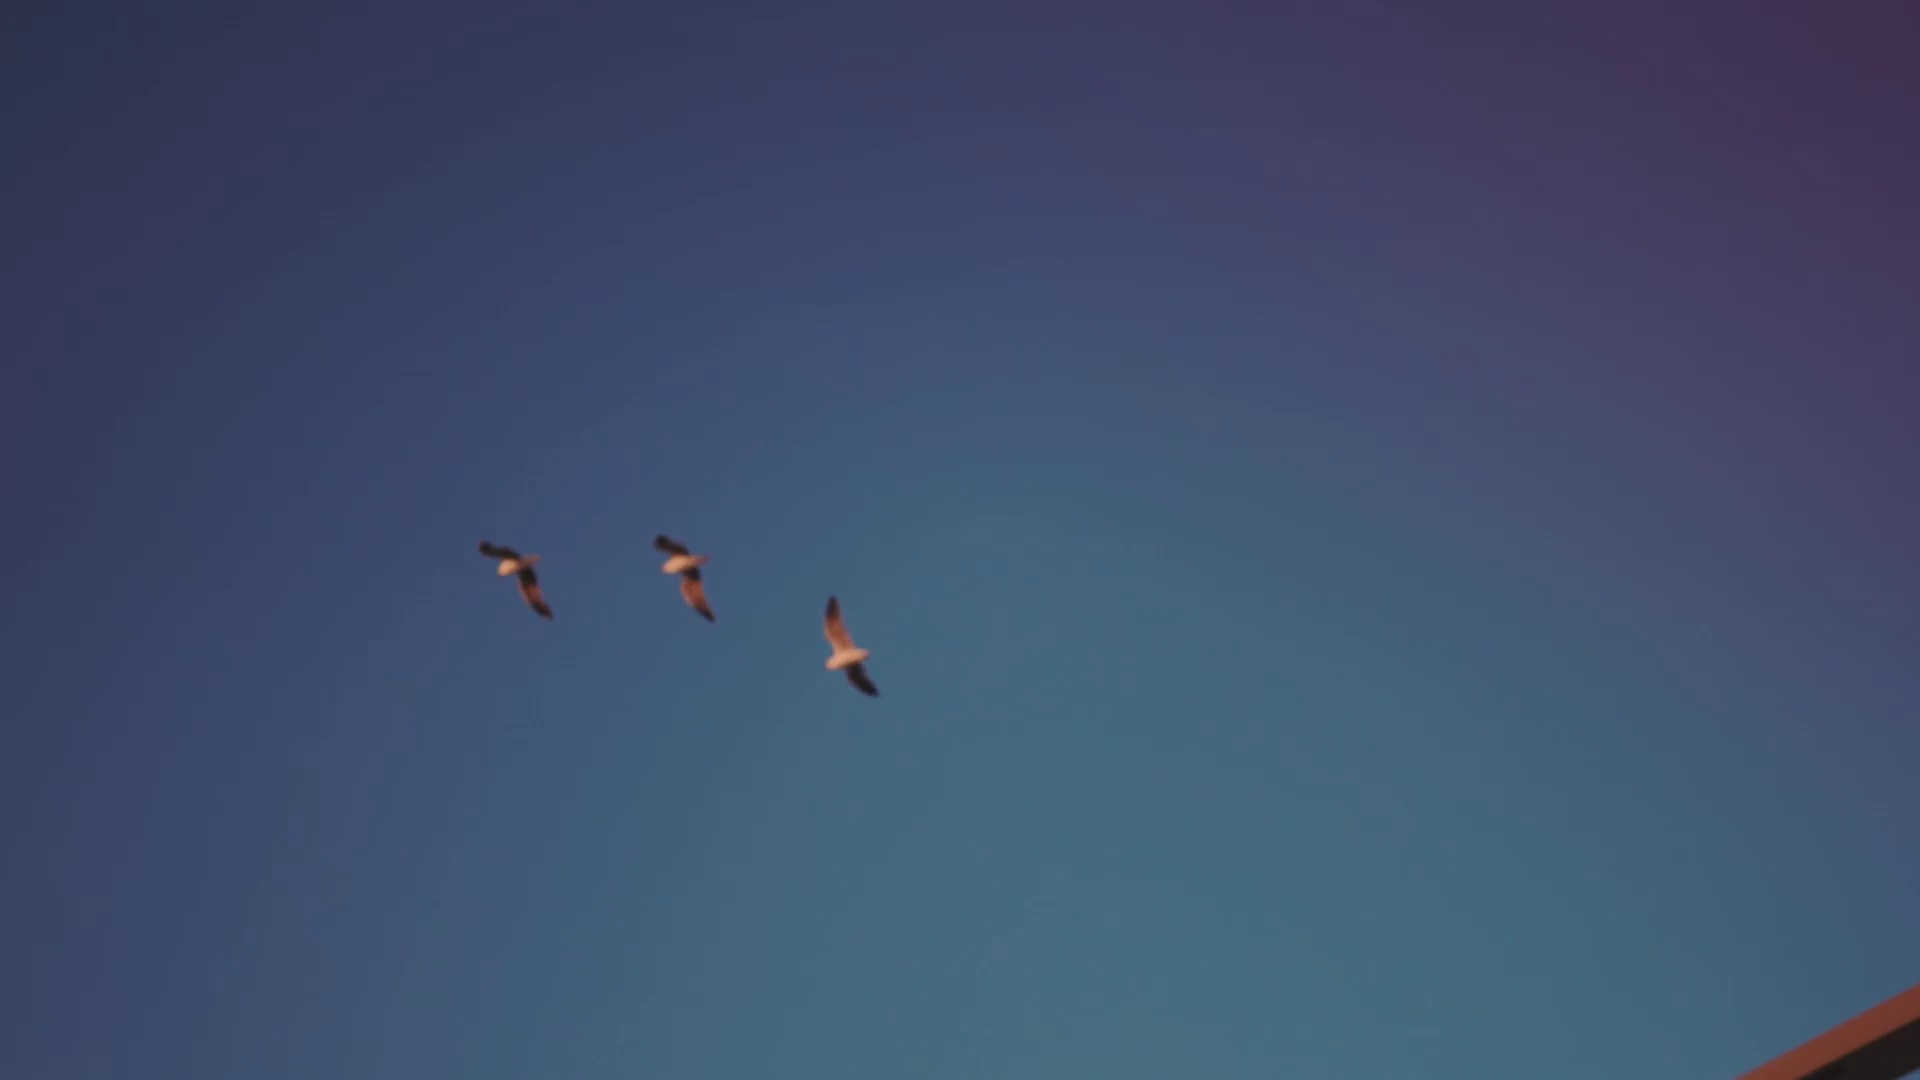bird: (818, 593, 881, 696), (477, 533, 555, 615), (654, 535, 717, 622)
